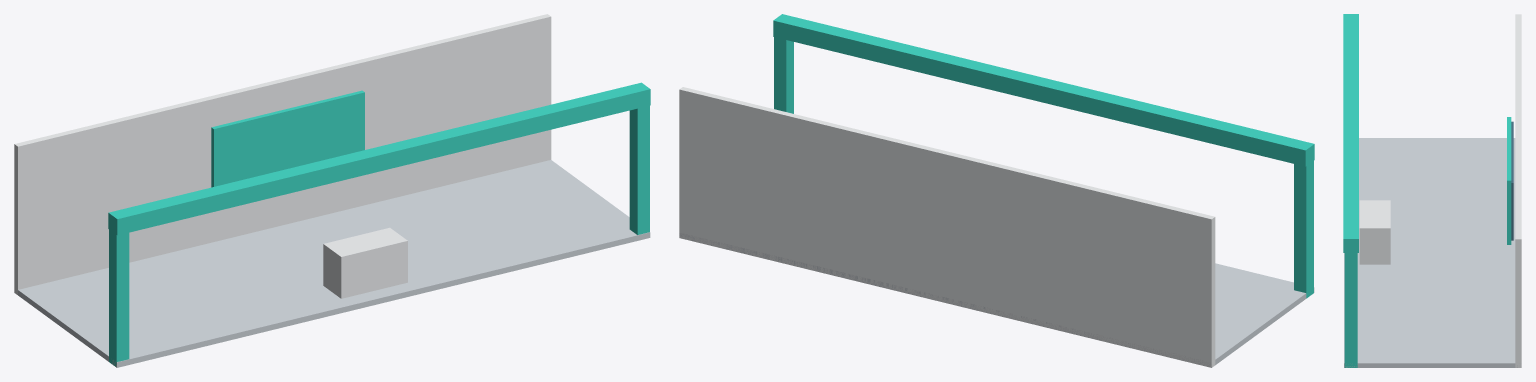
The picture shows the model from 3 angles, left to right: view 1: azimuth 30°, elevation 25°; view 2: azimuth 150°, elevation 25°; view 3: azimuth 270°, elevation 25°; orthographic projection. The views are drawn at different scales.
Parts seen in each view (by area): view 1: Exhibition Booth Concept; view 2: Exhibition Booth Concept; view 3: Exhibition Booth Concept.
Boxes of the visible parts, box(x1,y1,x2,y2) form: Exhibition Booth Concept: box(14, 14, 650, 367); Exhibition Booth Concept: box(679, 14, 1314, 367); Exhibition Booth Concept: box(1343, 14, 1521, 367).
Size of the model in its own units: 12 by 3.2 by 4.02.
